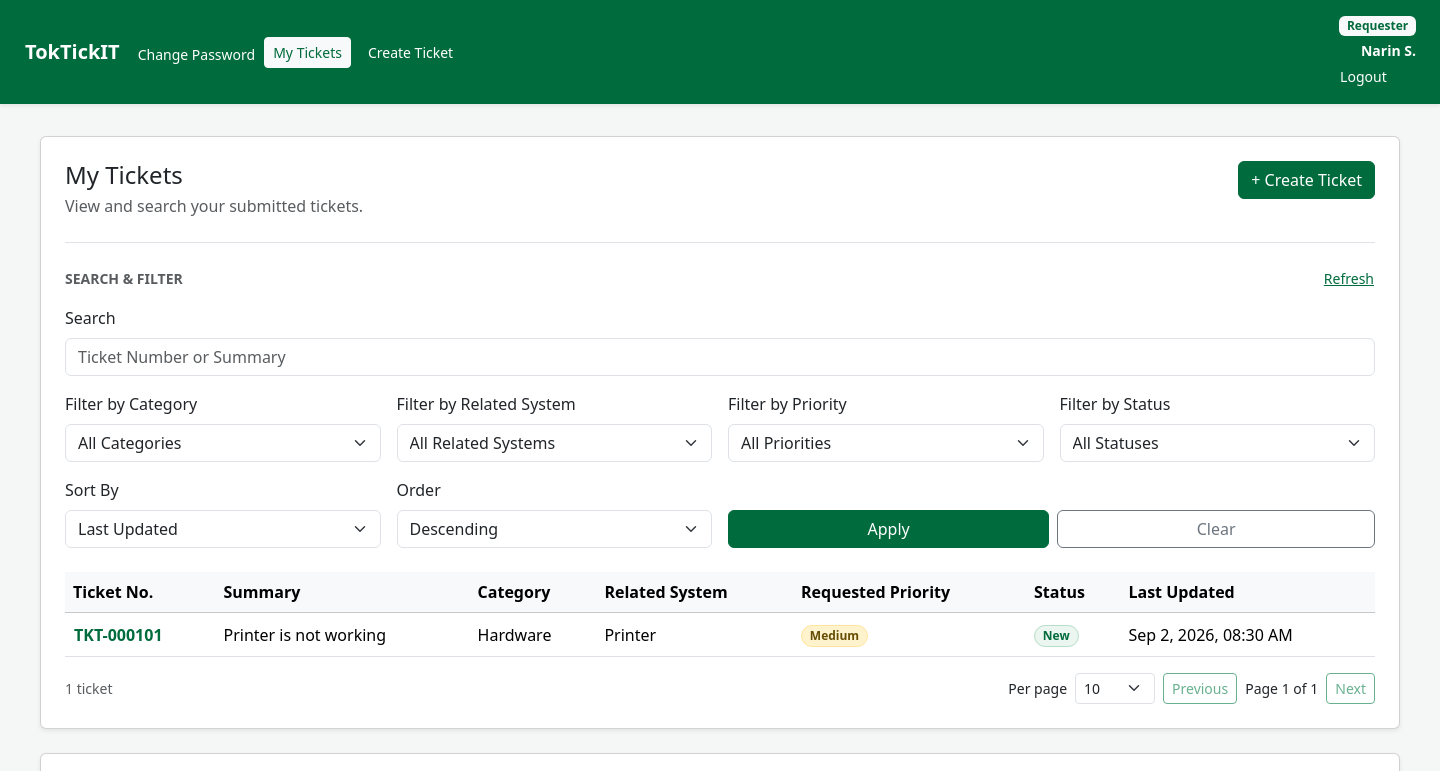
Requester Ticket Detail › shows the empty attachment state
The width and height of the screenshot is (1440, 771).
Expected: the heading "My Tickets" is shown, x1=65 y1=158 x2=183 y2=191
Click the button with aria-label "View TKT-000101": (118, 635) x1=73 y1=622 x2=164 y2=648
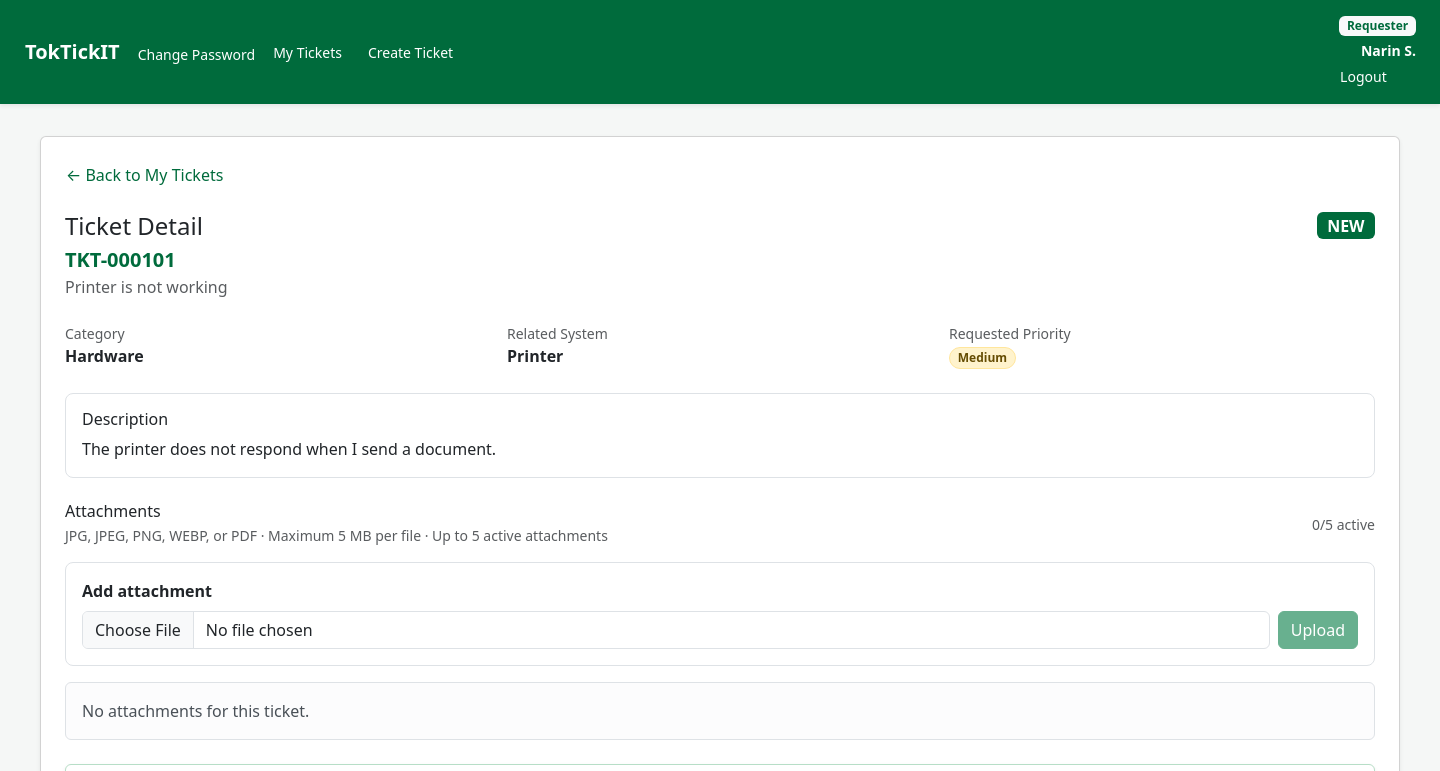
Result: the text "No attachments for this ticket." is shown at x1=65 y1=682 x2=1375 y2=740
